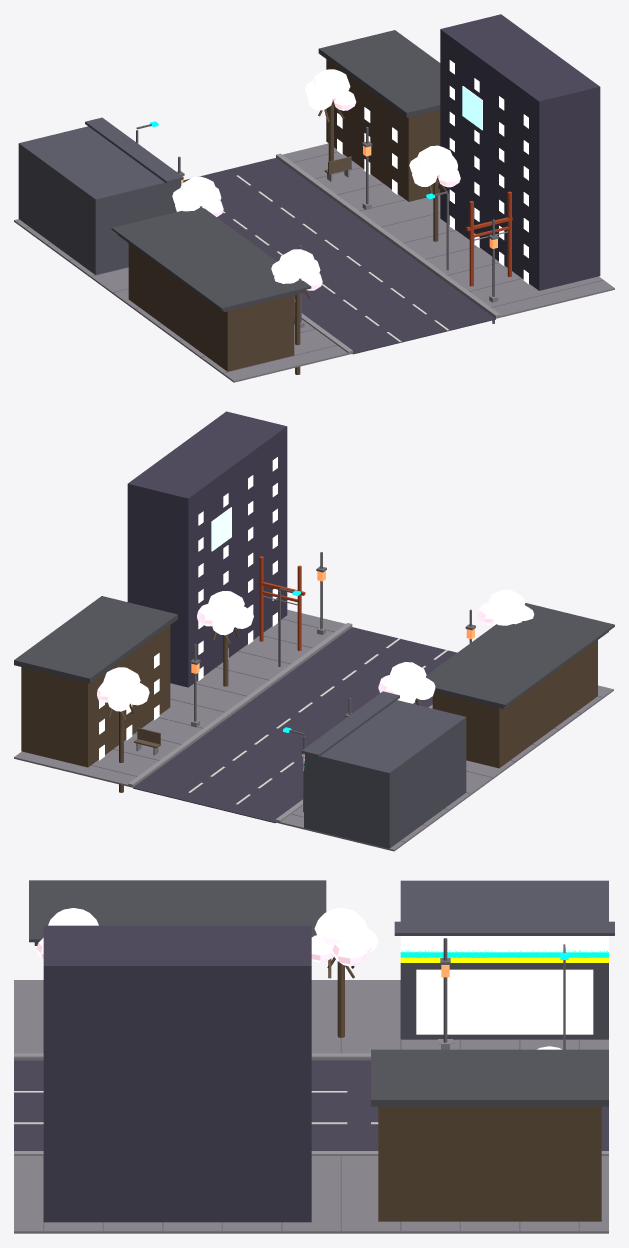
File: env2-1.glb
3 renders of one model, top to bottom at view 1: azimuth 30°, elevation 25°; view 2: azimuth 150°, elevation 25°; view 3: azimuth 270°, elevation 25°, orthographic. The views are drawn at different scales.
Visible parts, largest first — view 1: env2-1; view 2: env2-1; view 3: env2-1.
Boxes of the visible parts, x1,y1,x2,y2 form: env2-1: [14, 14, 614, 382]; env2-1: [14, 411, 614, 851]; env2-1: [14, 880, 614, 1233].
Size of the model in its own units: 20.35 by 11.25 by 20.2.
